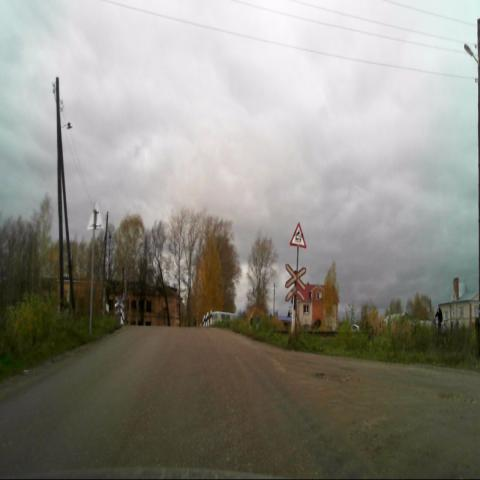1_2: (289, 221, 307, 249)
